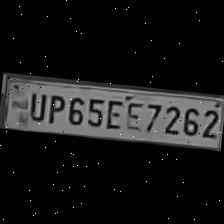2: (158, 102, 181, 136), (198, 105, 220, 138)
5: (84, 94, 106, 128)
6: (63, 93, 85, 127), (179, 103, 200, 137)
7: (140, 100, 161, 134)
E: (122, 97, 142, 132), (104, 96, 124, 130)
P: (44, 91, 64, 125)
U: (26, 90, 46, 122)
